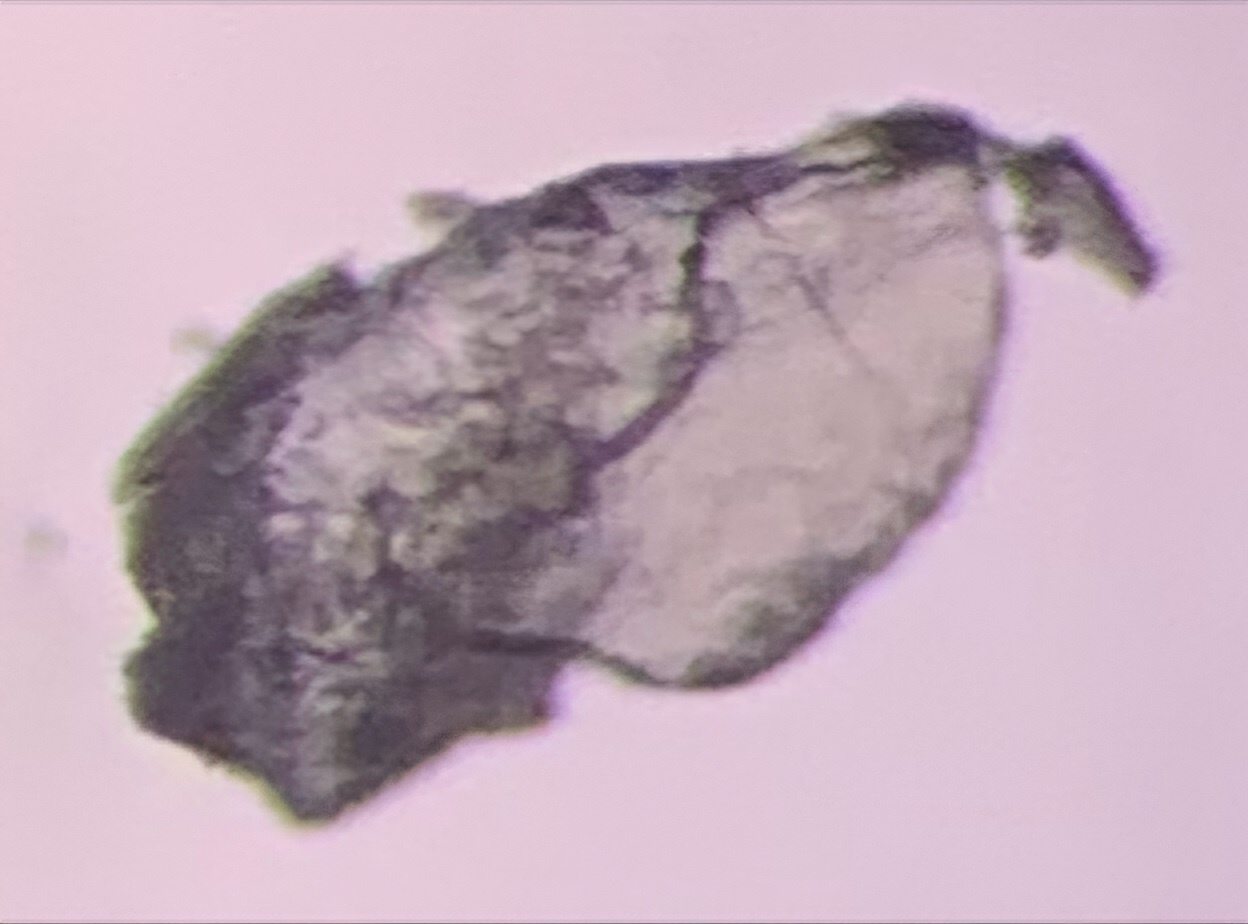microplastic: (106, 95, 1168, 835)
